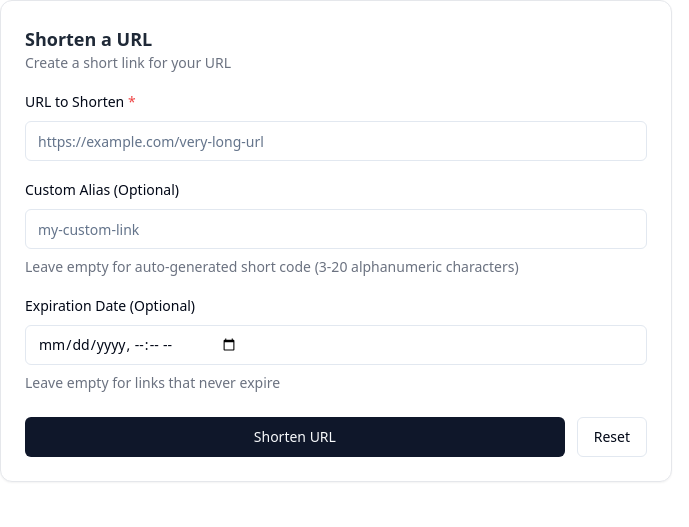
Test: CreateUrlForm › clears validation errors when user types
This screenshot has width=689, height=527.
Submit empty form to trigger validation
Click the button "Shorten URL": (295, 437) [25,417,565,457]
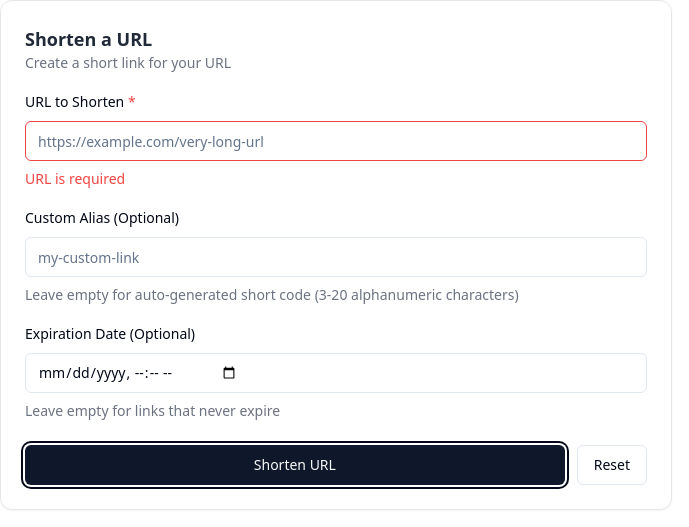
Now the text "URL is required" is shown, box [25,169,125,188]
Type in URL field
In the field labelled "URL to Shorten *": (336, 141) [25,121,647,161], type "https://example.com"
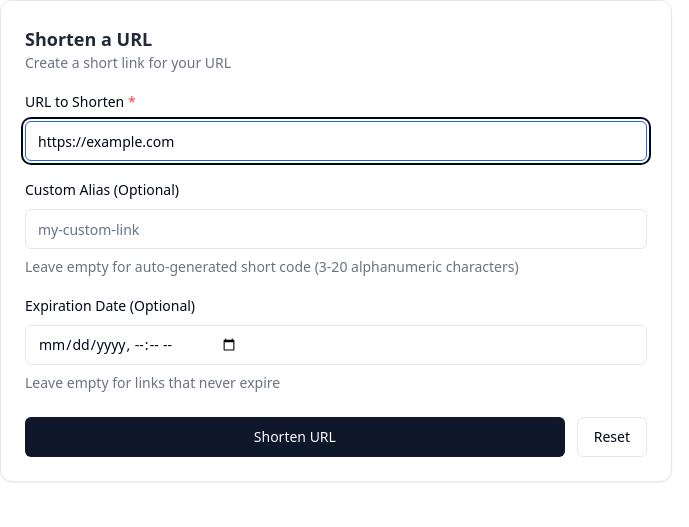
Now the text "URL is required" is gone
